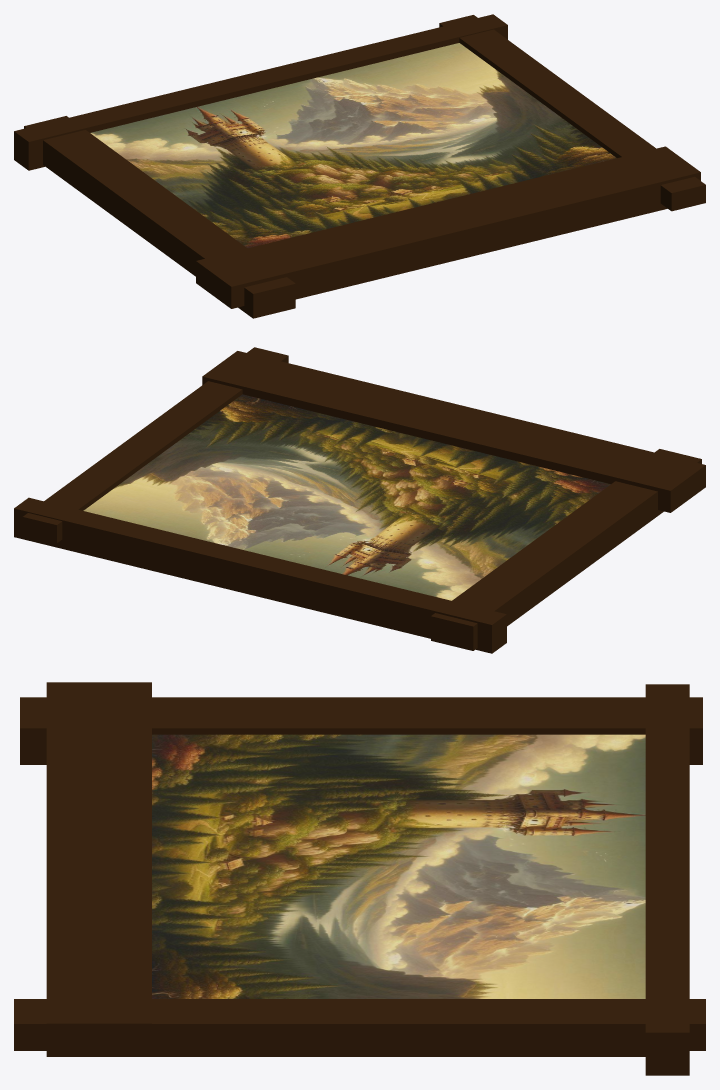
File: square_roughFrame.fbx
The picture shows the model from 3 angles, top to bottom: view 1: azimuth 30°, elevation 25°; view 2: azimuth 150°, elevation 25°; view 3: azimuth 270°, elevation 25°; orthographic projection. The views are drawn at different scales.
Parts seen in each view (by area): view 1: Cube, Cube.001; view 2: Cube, Cube.001; view 3: Cube.001, Cube.
Part boxes in pixels (x1,y1,x2,y2): Cube: [14, 14, 705, 318]; Cube.001: [90, 43, 616, 248]; Cube: [14, 347, 705, 653]; Cube.001: [83, 394, 610, 600]; Cube.001: [152, 734, 645, 998]; Cube: [14, 682, 705, 1075].
Size of the model in its own units: 1057 by 64.87 by 888.
Materials: 2 (1 with a texture image).
